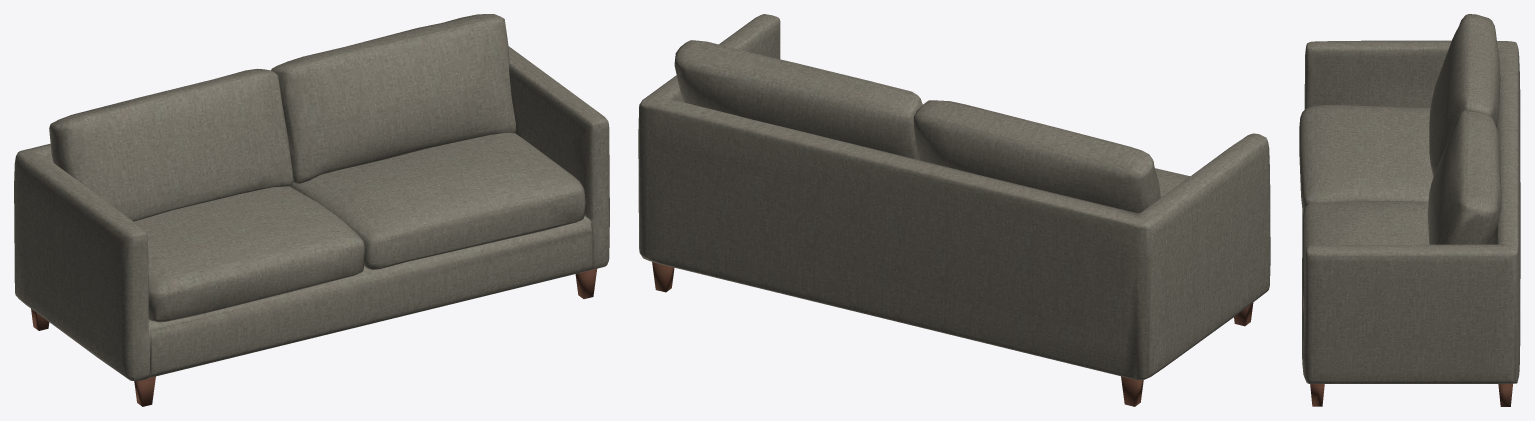
The model's file is abo-B07B4MF6S6.glb.
3 views of the same model, side by side, from view 1: azimuth 30°, elevation 25°; view 2: azimuth 150°, elevation 25°; view 3: azimuth 270°, elevation 25° (orthographic). The views are drawn at different scales.
Parts seen in each view (by area): view 1: RootNode; view 2: RootNode; view 3: RootNode.
Part boxes in pixels (x1,y1,x2,y2): RootNode: (14,14,609,406); RootNode: (638,14,1270,406); RootNode: (1299,14,1520,406).
Size of the model in its own units: 2.21 by 0.9594 by 0.9554.
1 material, 1 textured.
